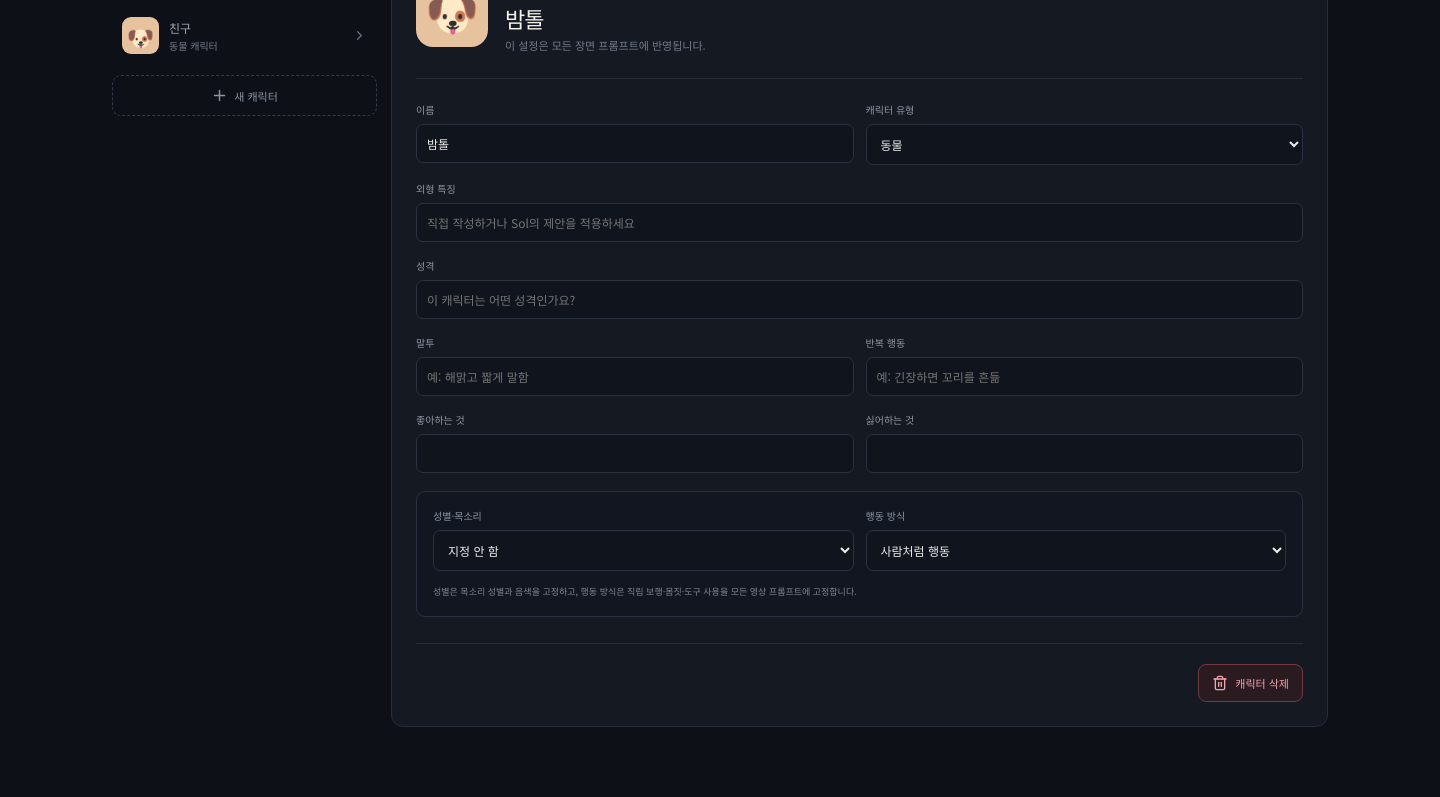
캐릭터 삭제 화면 › 삭제 확인 중 다른 캐릭터를 선택하면 확인을 닫는다
(page scrolled)
Click the button "캐릭터 삭제": click(1251, 683) top-left (1198, 664), bottom-right (1303, 702)
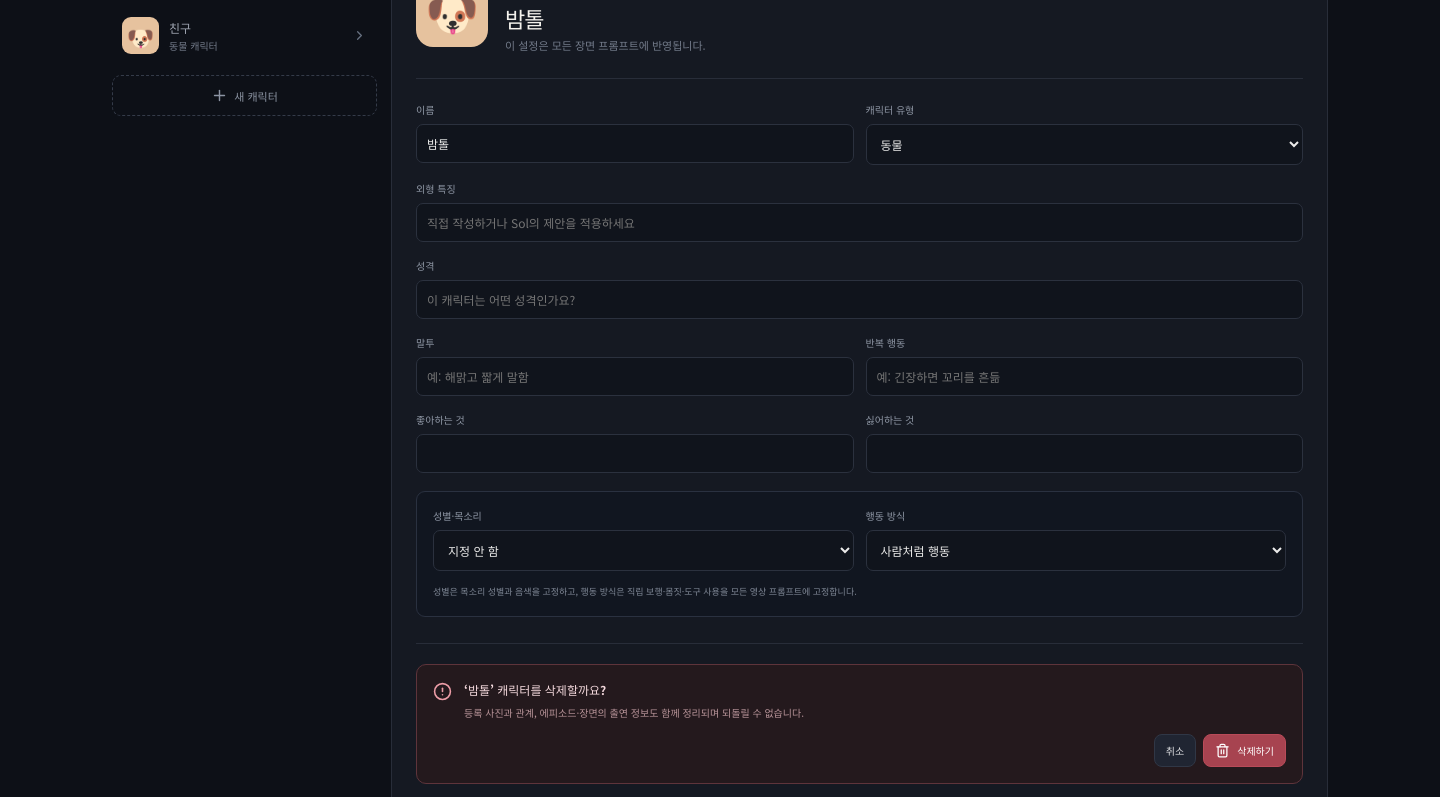
Click the button with class "character-list-item" showing "🐶 친구 동물 캐릭터": click(140, 36) top-left (112, 8), bottom-right (377, 64)
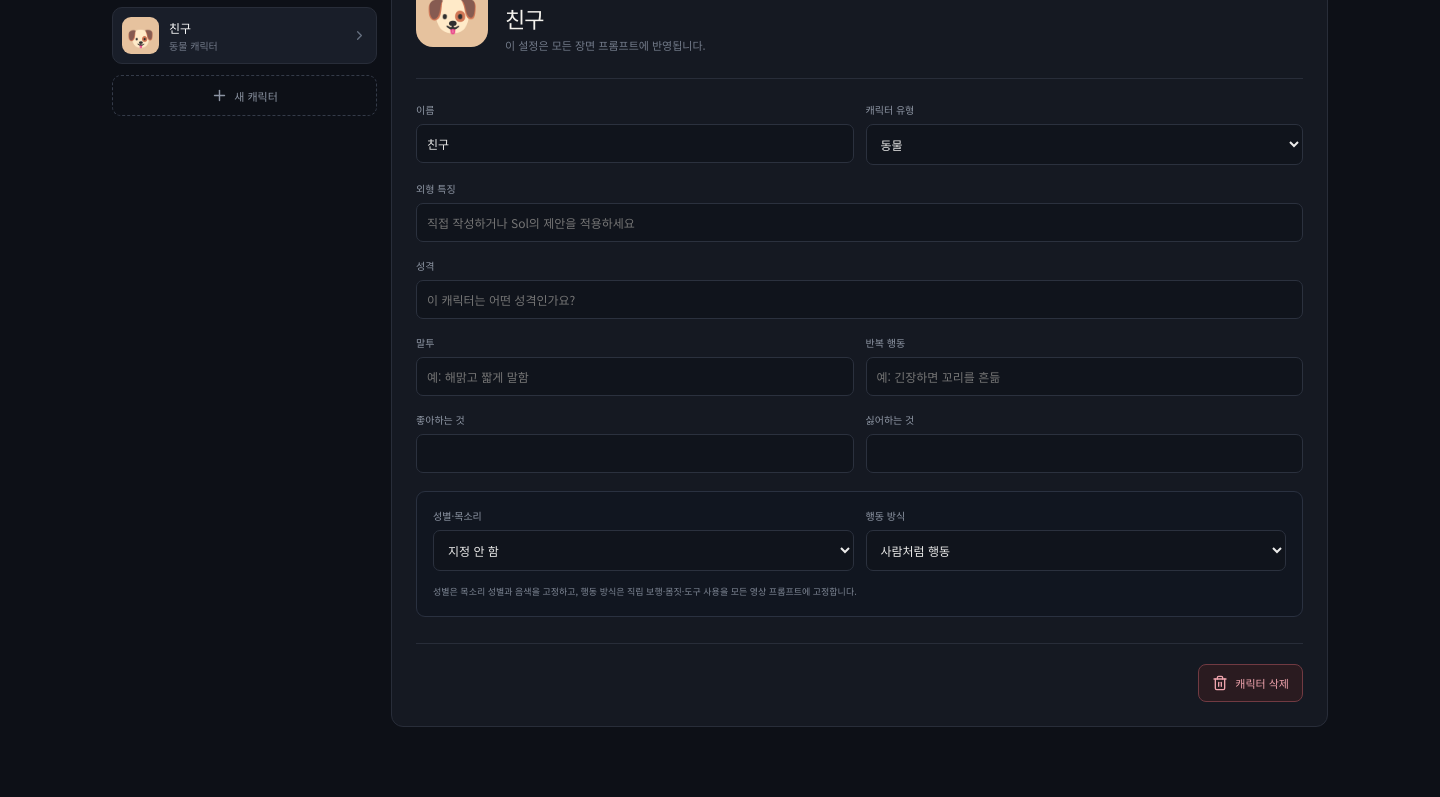
Now the text "되돌릴 수 없습니다" is gone
